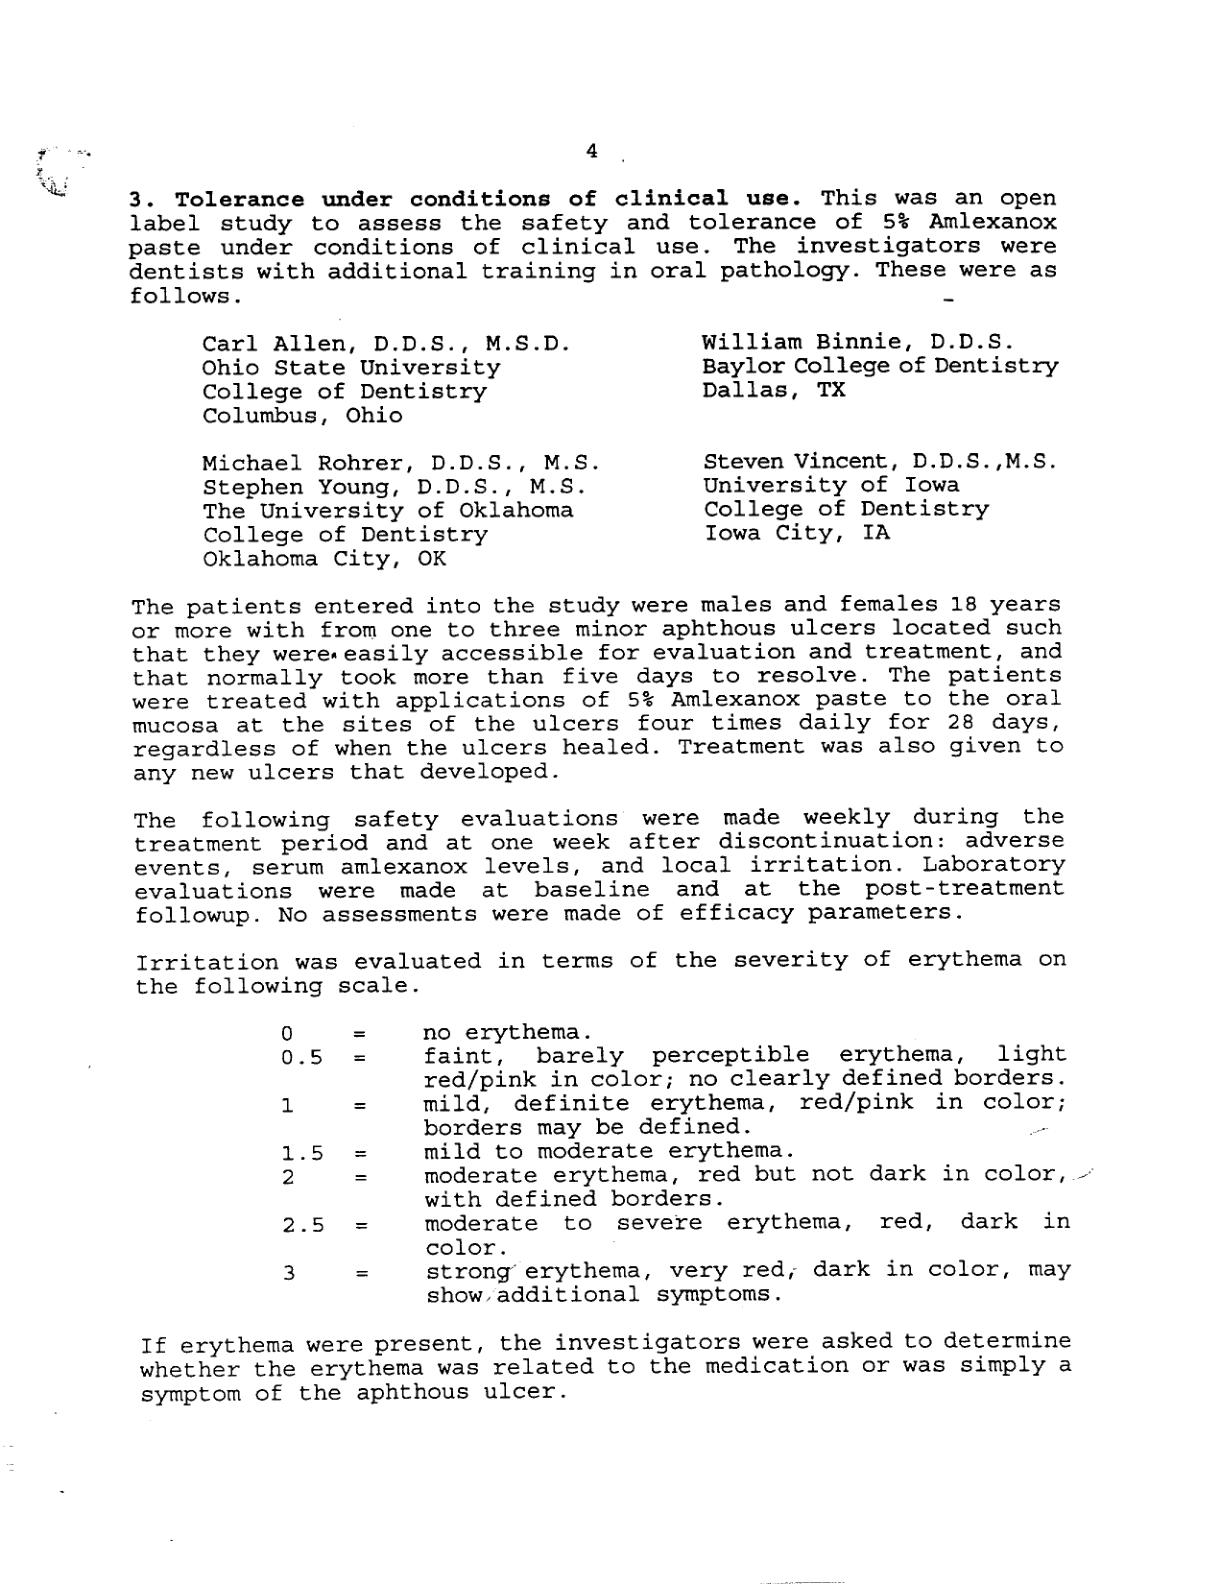nolines: (276, 1023, 1073, 1311), (200, 329, 1062, 572)
